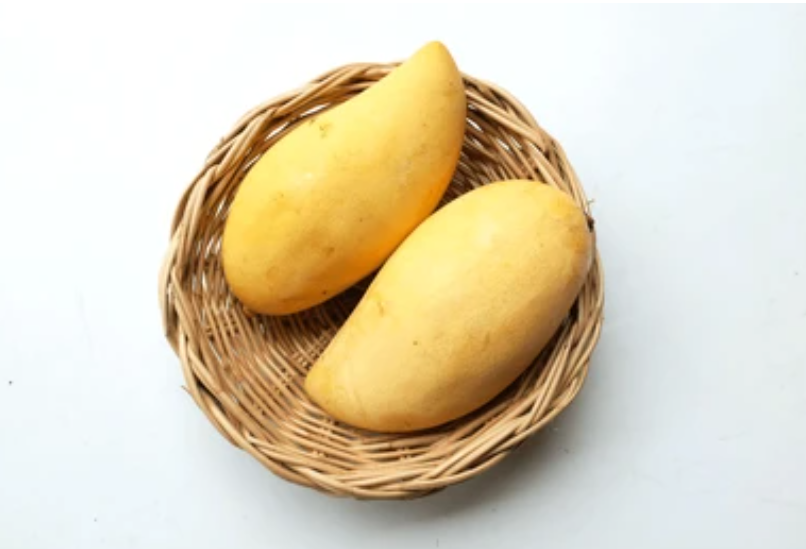mango: (305, 179, 591, 434), (223, 38, 466, 315)
